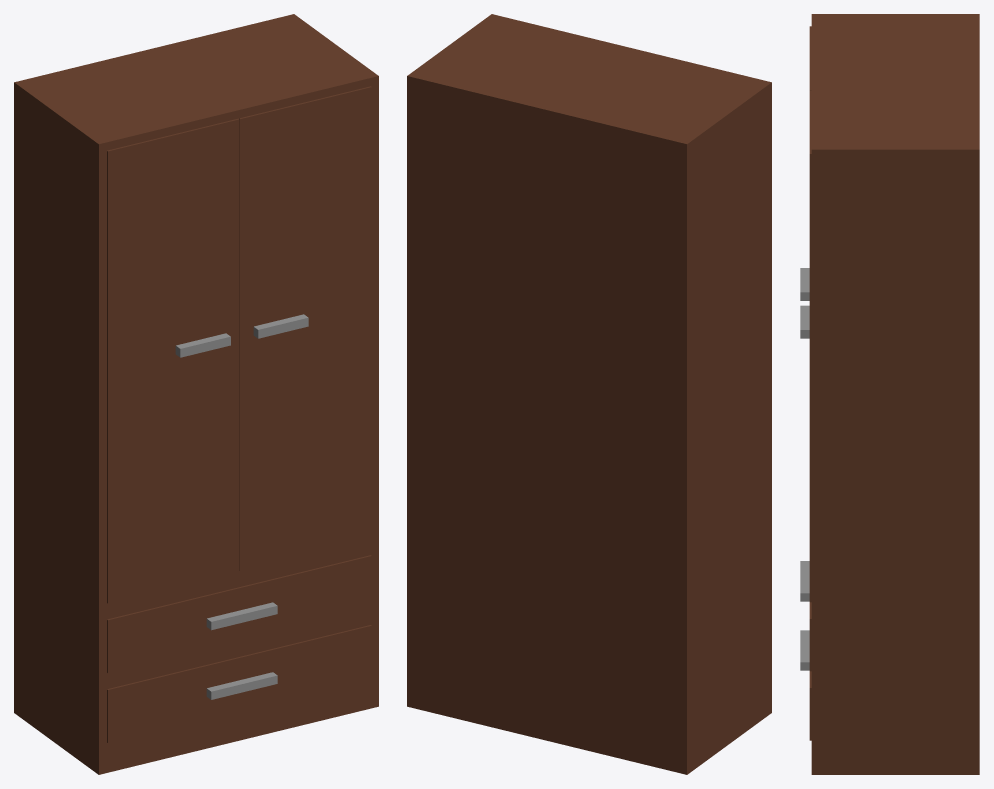
The model's file is charliroom_armario.fbx.
The picture shows the model from 3 angles, left to right: view 1: azimuth 30°, elevation 25°; view 2: azimuth 150°, elevation 25°; view 3: azimuth 270°, elevation 25°; orthographic projection.
Parts seen in each view (by area): view 1: armario, puertas, puerta1, cajon_1, cajon_2; view 2: armario; view 3: armario, puertas, cajon_2, cajon_1, puerta1.
Boxes of the visible parts, <box> form: armario: <box>14,14,378,774</box>; puertas: <box>239,86,371,571</box>; puerta1: <box>107,118,239,603</box>; cajon_1: <box>107,555,371,673</box>; cajon_2: <box>107,625,371,742</box>; armario: <box>407,14,771,774</box>; armario: <box>811,14,979,774</box>; puertas: <box>800,90,811,602</box>; cajon_2: <box>800,630,811,740</box>; cajon_1: <box>800,561,811,671</box>; puerta1: <box>800,26,811,300</box>.
Bounding box in the file's own units: 105 × 226 × 58.68.
